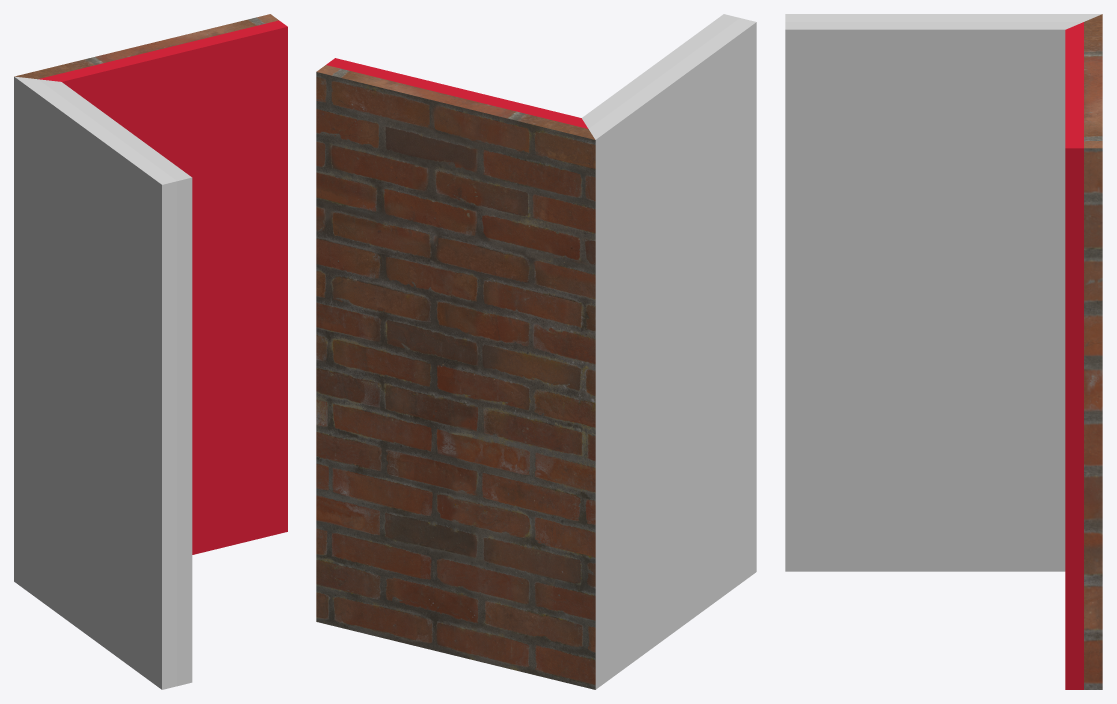
Rendered from Corner_Wall_Complete.fbx.
The picture shows the model from 3 angles, left to right: view 1: azimuth 30°, elevation 25°; view 2: azimuth 150°, elevation 25°; view 3: azimuth 270°, elevation 25°; orthographic projection. The views are drawn at different scales.
Parts seen in each view (by area): view 1: Corner Wall; view 2: Corner Wall; view 3: Corner Wall.
Part boxes in pixels (<box>): Corner Wall: <box>14,14,287,689</box>; Corner Wall: <box>316,14,756,689</box>; Corner Wall: <box>785,14,1102,689</box>.
Size of the model in its own units: 425 by 800 by 425.
